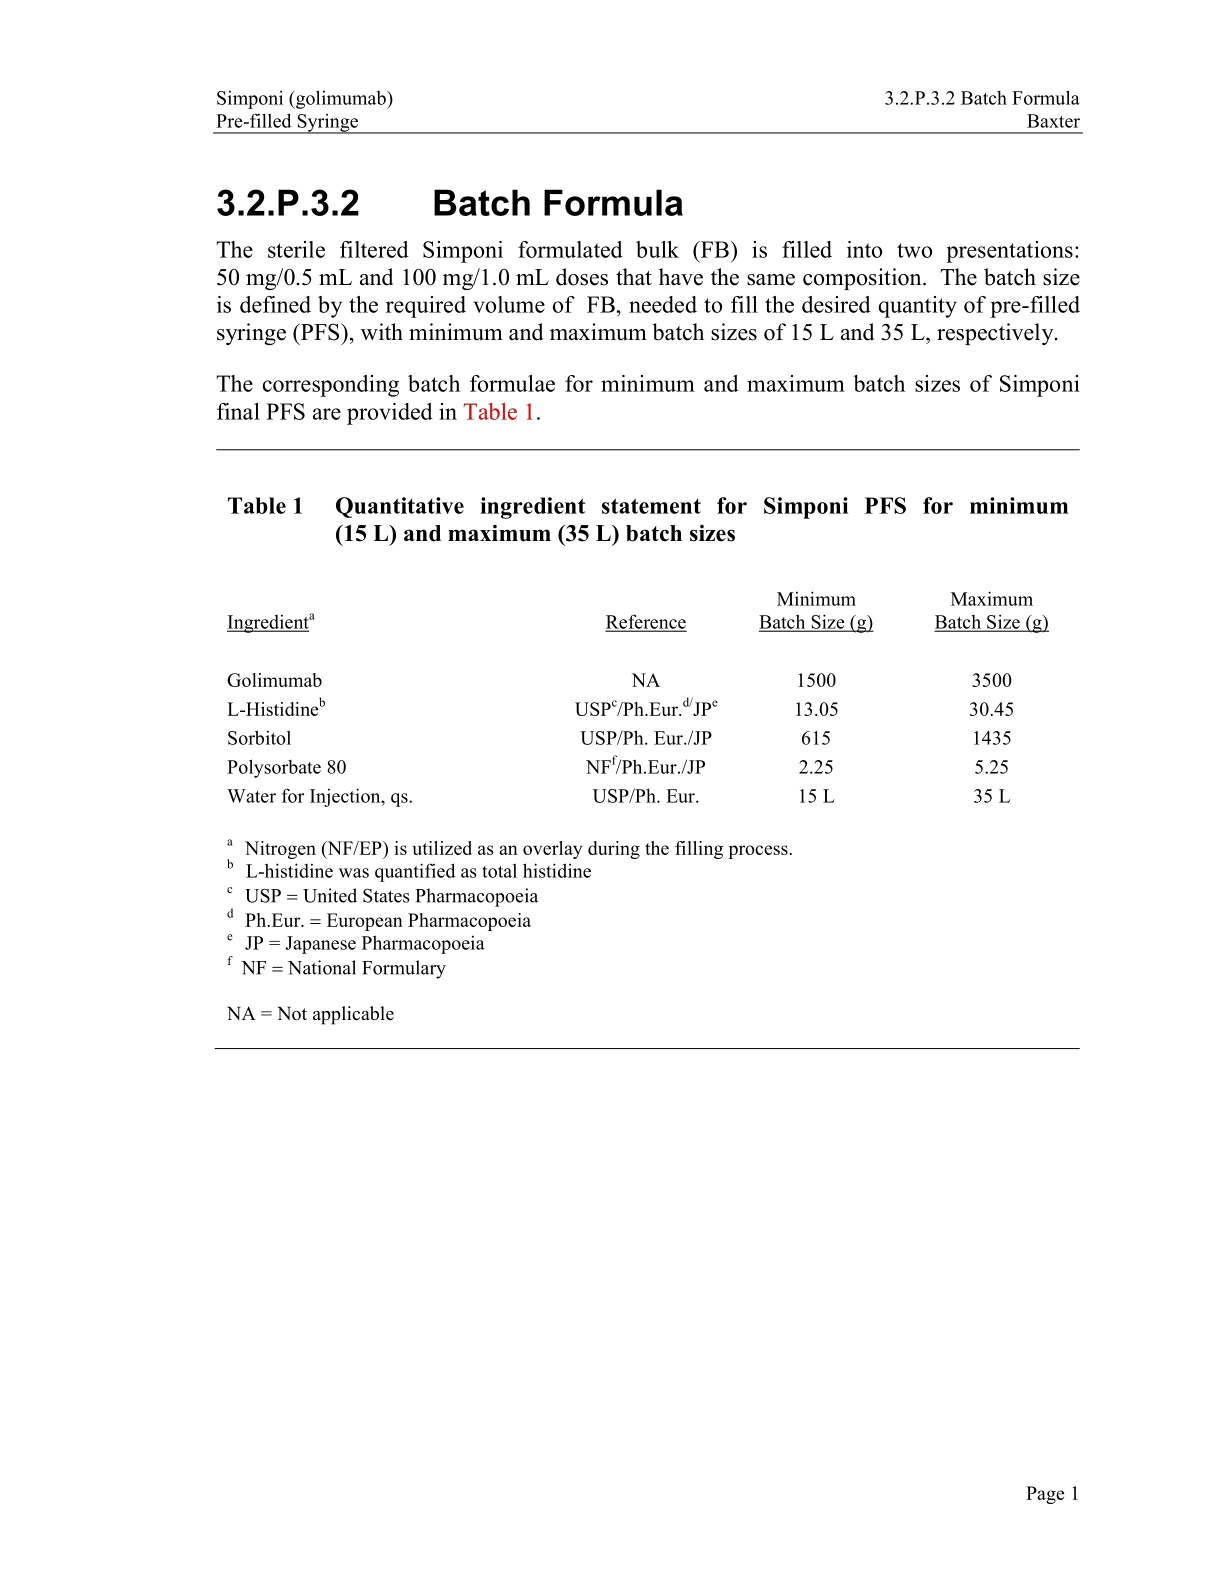nolines: (225, 588, 1050, 807)
